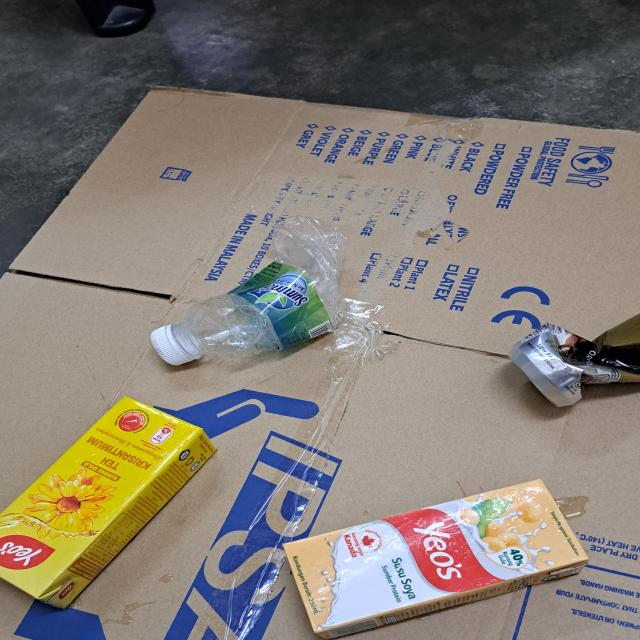can: (509, 315, 640, 407)
cardboard: (0, 83, 640, 640)
drink carton: (283, 478, 592, 640), (0, 395, 216, 609)
plastic bottle: (174, 216, 350, 357)
plastic bottle cap: (150, 325, 192, 366)
